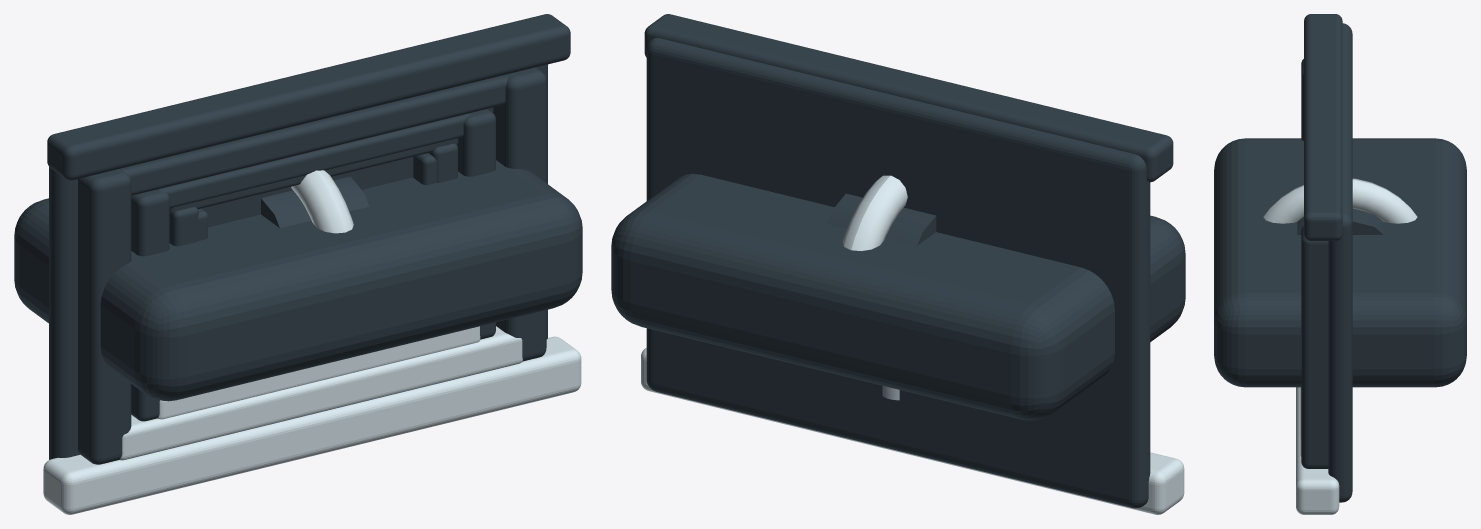
Rendered from body_32.glb.
3 views of the same model, side by side, from view 1: azimuth 30°, elevation 25°; view 2: azimuth 150°, elevation 25°; view 3: azimuth 270°, elevation 25° (orthographic). The views are drawn at different scales.
Parts seen in each view (by area): view 1: asset_mesh__body_1448__reference_body, asset_mesh__body_1466__lower_flange, asset_mesh__body_1466__upper_flange, asset_mesh__body_1453__upper_flange, asset_mesh__body_1466__left_reinforcement, asset_mesh__body_1453__lower_flange, asset_mesh__body_1466__stamped_sheet, asset_mesh__body_1441__lower_flange, asset_mesh__body_1466__right_reinforcement, asset_mesh__body_1441__upper_flange, asset_mesh__body_1453__left_reinforcement, asset_mesh__body_1453__right_reinforcement (+6 smaller); view 2: asset_mesh__body_1466__stamped_sheet, asset_mesh__body_1448__reference_body, asset_mesh__body_1466__lower_flange, asset_mesh__body_1466__upper_flange, asset_mesh__body_1469__functional_ring, asset_mesh__body_1469__rotor; view 3: asset_mesh__body_1448__reference_body, asset_mesh__body_1466__lower_flange, asset_mesh__body_1466__stamped_sheet, asset_mesh__body_1466__right_reinforcement, asset_mesh__body_1469__functional_ring, asset_mesh__body_1466__upper_flange, asset_mesh__body_1469__rotor.
Boxes of the visible parts, x1=… form: asset_mesh__body_1448__reference_body: x1=14, y1=160, x2=582, y2=401; asset_mesh__body_1466__lower_flange: x1=47, y1=14, x2=570, y2=180; asset_mesh__body_1466__upper_flange: x1=43, y1=336, x2=581, y2=514; asset_mesh__body_1453__upper_flange: x1=119, y1=326, x2=522, y2=460; asset_mesh__body_1466__left_reinforcement: x1=78, y1=169, x2=131, y2=464; asset_mesh__body_1453__lower_flange: x1=119, y1=74, x2=508, y2=195; asset_mesh__body_1466__stamped_sheet: x1=49, y1=64, x2=547, y2=459; asset_mesh__body_1441__lower_flange: x1=156, y1=113, x2=469, y2=208; asset_mesh__body_1466__right_reinforcement: x1=493, y1=67, x2=546, y2=361; asset_mesh__body_1441__upper_flange: x1=157, y1=326, x2=480, y2=419; asset_mesh__body_1453__left_reinforcement: x1=131, y1=190, x2=169, y2=421; asset_mesh__body_1453__right_reinforcement: x1=457, y1=109, x2=495, y2=339; asset_mesh__body_1466__stamped_sheet: x1=646, y1=37, x2=1150, y2=508; asset_mesh__body_1448__reference_body: x1=611, y1=173, x2=1185, y2=420; asset_mesh__body_1466__lower_flange: x1=644, y1=14, x2=1173, y2=182; asset_mesh__body_1466__upper_flange: x1=641, y1=348, x2=1184, y2=514; asset_mesh__body_1469__functional_ring: x1=842, y1=175, x2=907, y2=250; asset_mesh__body_1469__rotor: x1=827, y1=193, x2=936, y2=245; asset_mesh__body_1448__reference_body: x1=1214, y1=138, x2=1466, y2=387; asset_mesh__body_1466__lower_flange: x1=1304, y1=14, x2=1342, y2=240; asset_mesh__body_1466__stamped_sheet: x1=1328, y1=23, x2=1352, y2=502; asset_mesh__body_1466__right_reinforcement: x1=1301, y1=225, x2=1328, y2=468; asset_mesh__body_1469__functional_ring: x1=1263, y1=178, x2=1417, y2=223; asset_mesh__body_1466__upper_flange: x1=1296, y1=387, x2=1339, y2=514; asset_mesh__body_1469__rotor: x1=1297, y1=208, x2=1383, y2=234.
Size of the model in its own units: 1.72 by 1.15 by 0.882.
